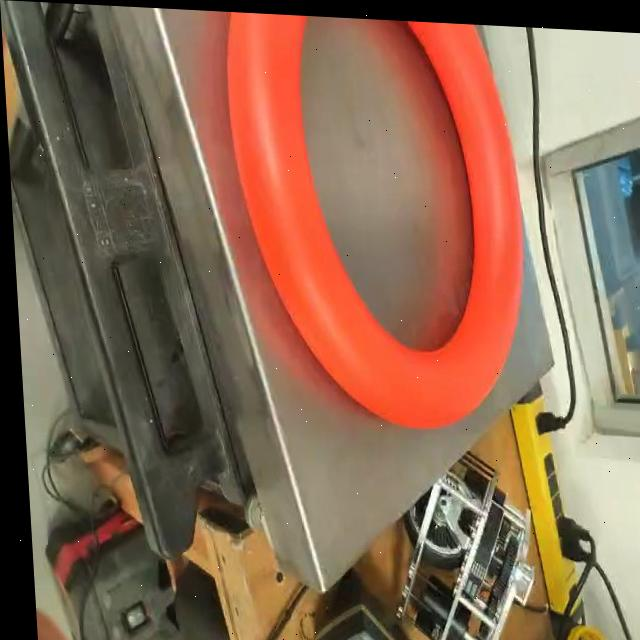note: (218, 9, 535, 433)
